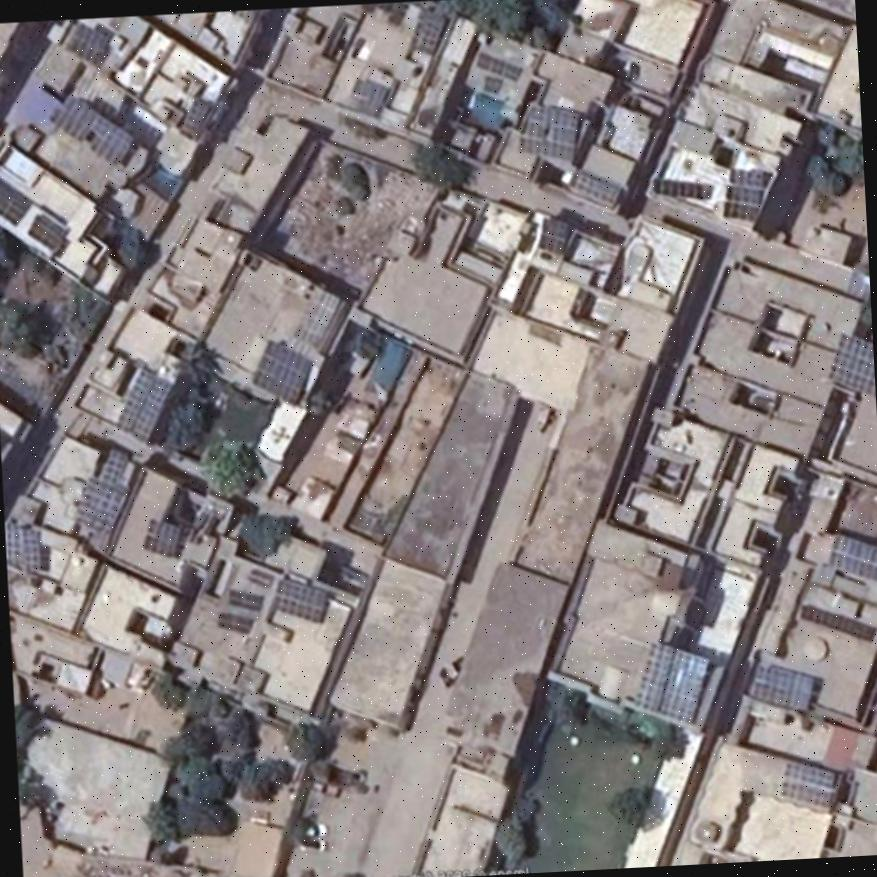Solarpanel: (49, 95, 132, 162), (636, 645, 708, 721), (117, 366, 173, 438), (250, 339, 309, 404), (519, 105, 579, 159), (828, 333, 875, 397), (778, 760, 837, 808), (73, 479, 123, 535), (747, 666, 812, 708), (828, 534, 877, 581), (723, 166, 765, 217), (65, 23, 106, 68), (278, 582, 322, 621), (5, 524, 38, 571), (0, 178, 31, 227), (144, 518, 181, 556), (97, 447, 125, 487), (652, 177, 707, 195), (539, 217, 567, 252)
